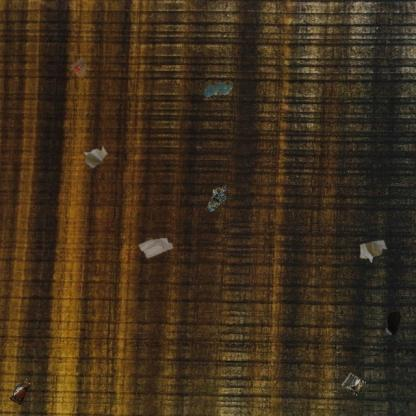dirty: (136, 237, 175, 260), (8, 376, 32, 407), (82, 144, 110, 170), (340, 370, 366, 396), (359, 238, 387, 262), (206, 184, 228, 212), (69, 56, 88, 78)
liquid: (202, 80, 233, 99), (384, 309, 402, 336)
